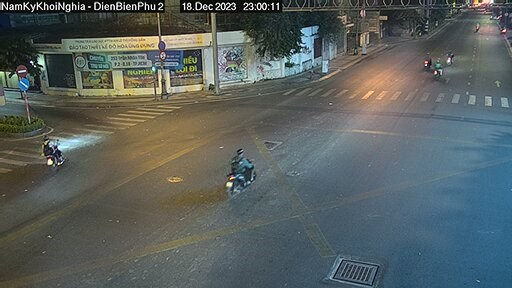motorbike: (224, 146, 255, 193), (37, 137, 67, 171), (446, 52, 459, 72), (420, 54, 433, 69), (431, 59, 440, 80)
